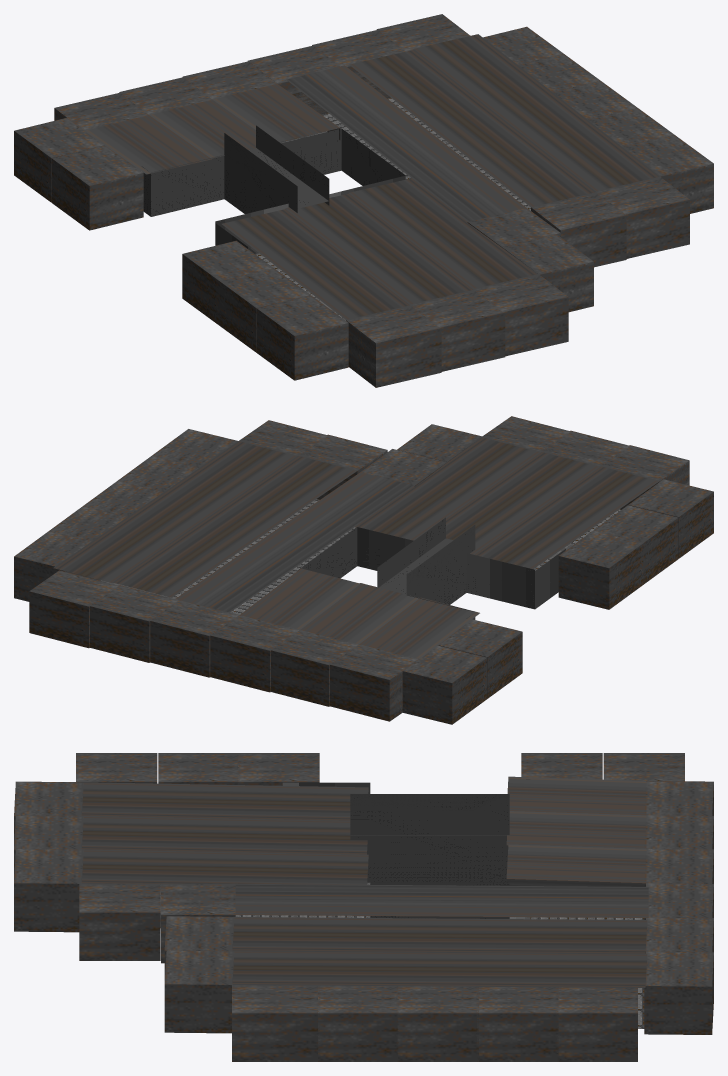
Rendered from TestMap2.glb.
3 views of the same model, one above another, from view 1: azimuth 30°, elevation 25°; view 2: azimuth 150°, elevation 25°; view 3: azimuth 270°, elevation 25° (orthographic). The views are drawn at different scales.
Parts seen in each view (by area): view 1: Cube.008, Cube.009, Cube, Cube.014, Cube.007, Cube.012, Cube.013, Cube.017, Cube.018, Cube.022, Cube.020, Cube.021 (+12 smaller); view 2: Cube, Cube.009, Cube.008, Cube.007, Cube.014, Cube.012, Cube.022, Cube.020, Cube.013, Cube.021, Cube.015, Cube.019 (+12 smaller); view 3: Cube.008, Cube.009, Cube.007, Cube, Cube.012, Cube.013, Cube.014, Cube.020, Cube.022, Cube.021, Cube.004, Cube.011 (+12 smaller).
Boxes of the visible parts, x1,y1,x2,y2 form: Cube.008: (413,34,689,258); Cube.009: (349,49,626,267); Cube: (142,98,530,320); Cube.014: (222,209,441,387); Cube.007: (286,65,560,247); Cube.012: (349,178,568,356); Cube.013: (285,193,505,371); Cube.017: (257,295,348,380); Cube.018: (52,145,143,230); Cube.022: (54,92,211,174); Cube.020: (183,61,340,141); Cube.021: (119,77,256,158); Cube: (101,499,620,619); Cube.009: (112,434,387,597); Cube.008: (53,420,327,583); Cube.007: (175,449,447,612); Cube.014: (474,445,689,569); Cube.012: (355,416,570,540); Cube.022: (330,597,479,721); Cube.020: (210,568,360,692); Cube.013: (446,430,629,554); Cube.021: (271,583,419,706); Cube.015: (558,530,644,609); Cube.019: (402,645,487,724); Cube.008: (164,950,647,1033); Cube.009: (164,916,647,980); Cube.007: (161,883,648,963); Cube: (160,779,644,1028); Cube.012: (14,849,368,932); Cube.013: (14,815,367,879); Cube.014: (14,781,368,845); Cube.020: (506,844,713,886); Cube.022: (507,776,713,815); Cube.021: (506,811,713,849); Cube.004: (232,984,319,1061); Cube.011: (79,883,160,960).
Size of the model in its own units: 15.48 by 2.11 by 17.6.
2 materials, 2 textured.
